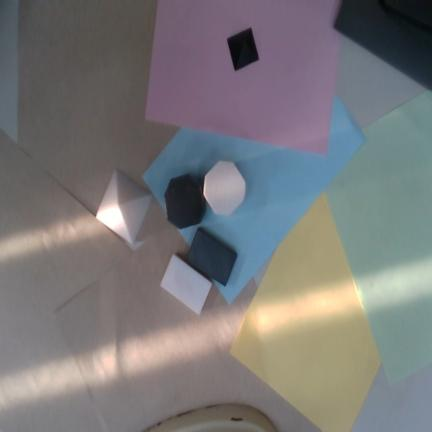Paralelepipedo: (159, 254, 213, 316), (185, 227, 237, 287)
Piramide: (95, 168, 154, 246), (227, 27, 260, 71)
Prisma_hexagonal: (203, 160, 246, 216), (164, 174, 207, 229)
